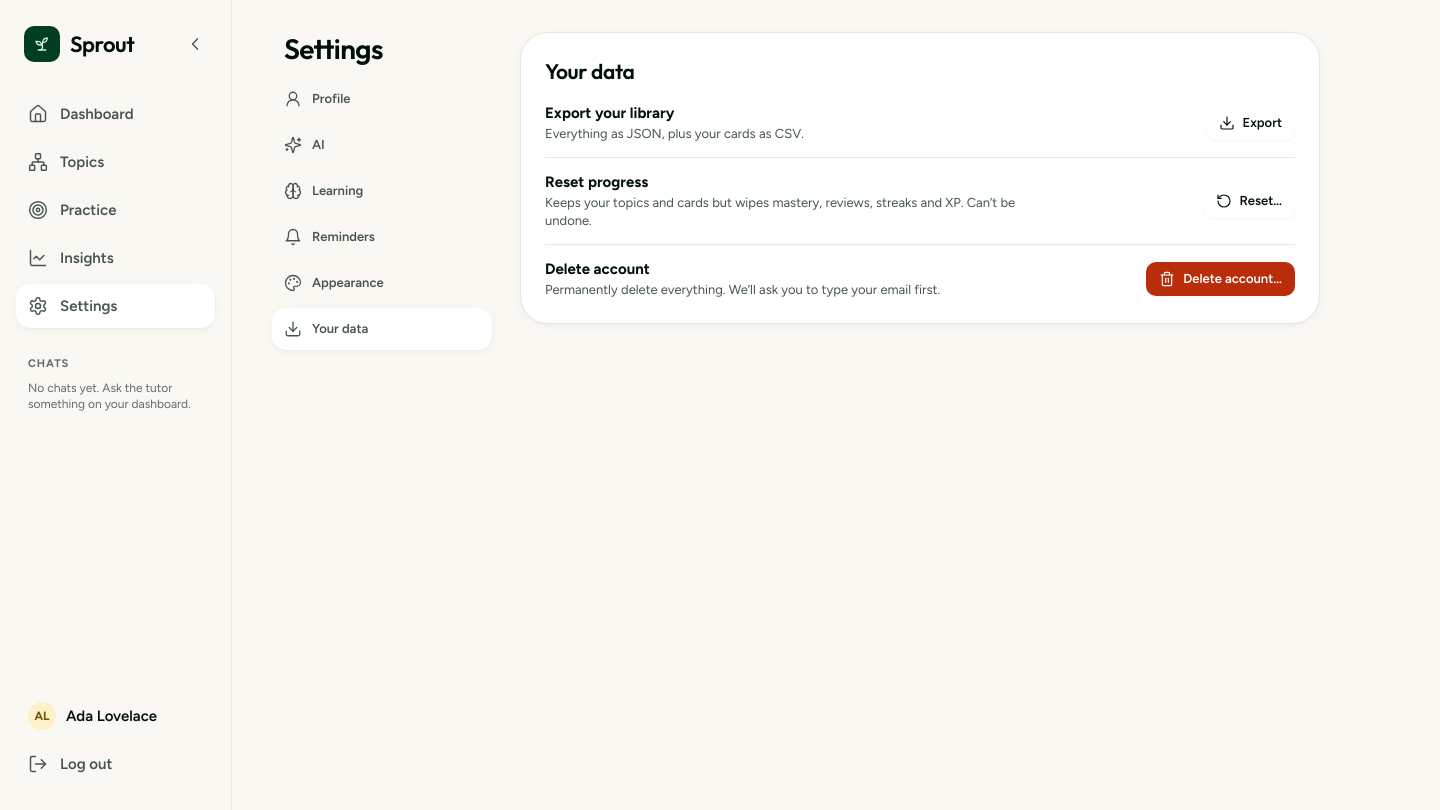
Scenario: DataSettings › resets your progress only after you confirm
Click the button with test id "reset": (1249, 201) [1202,184,1295,218]
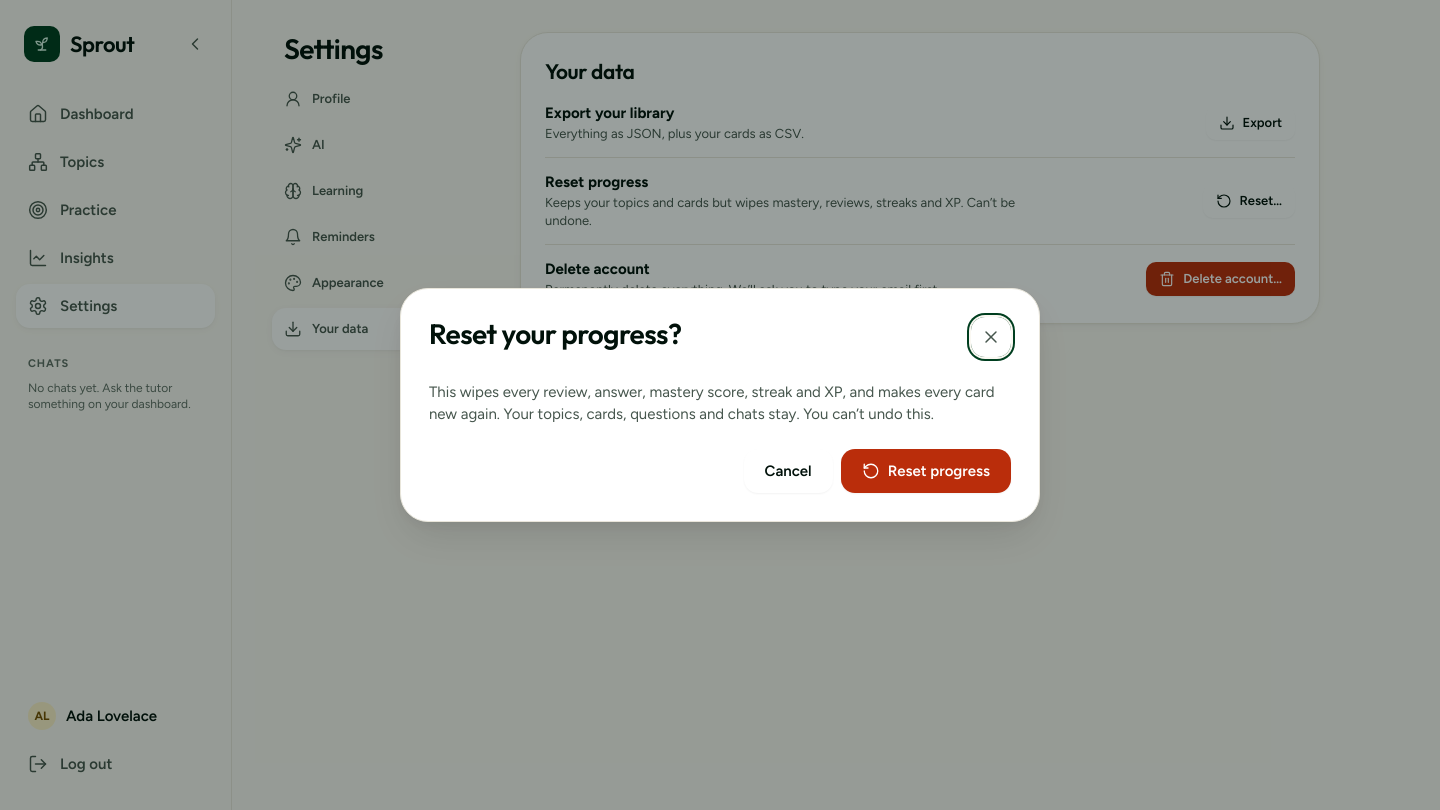
Click the button with test id "confirm-reset": (926, 471) [841,449,1011,493]
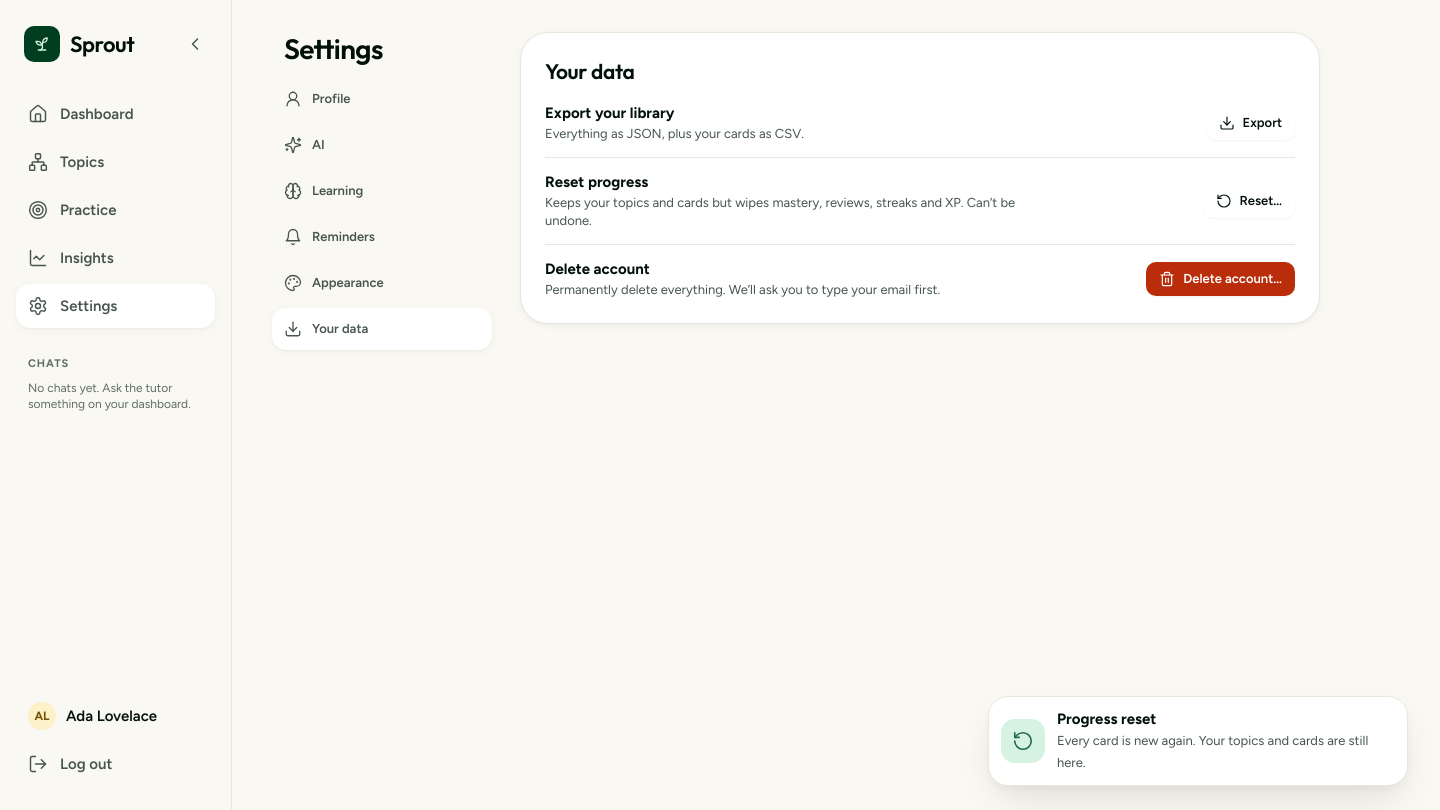
Now the text with test id "toast-title" reads "Progress reset", box [1057,710,1156,728]
